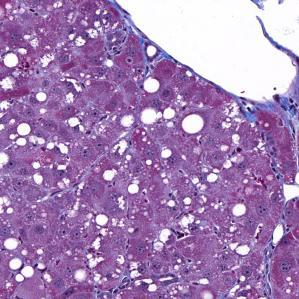fibrosis: (239, 97, 299, 130)
